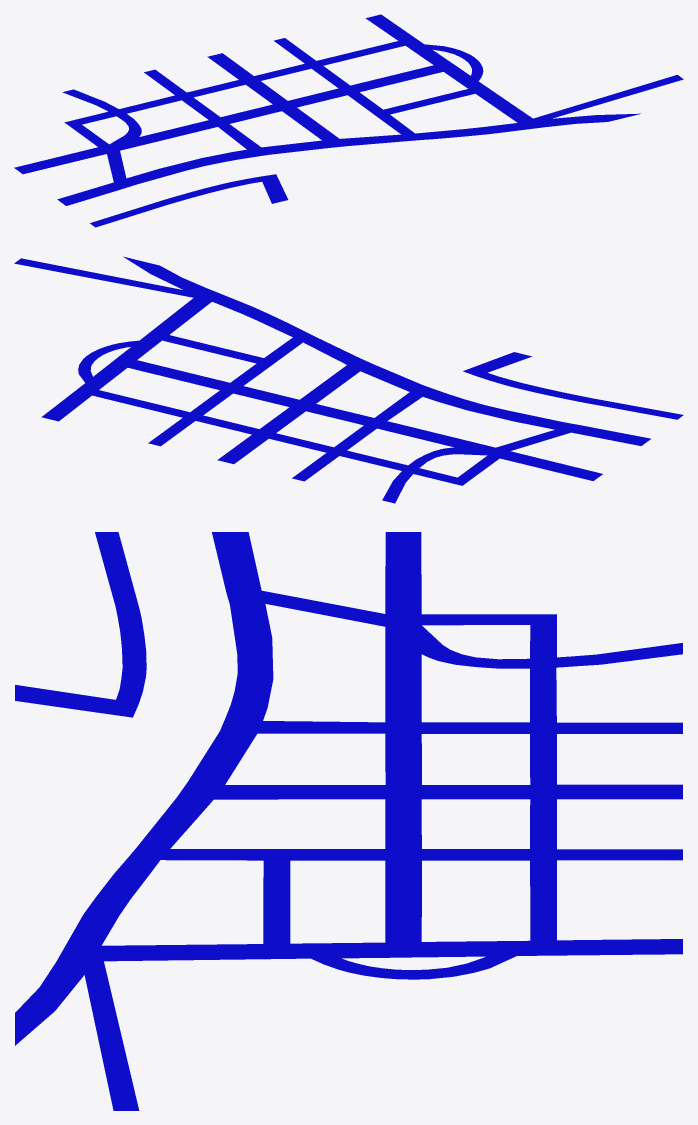
The model's file is cityRoads.FBX.
3 views of the same model, one above another, from view 1: azimuth 30°, elevation 25°; view 2: azimuth 150°, elevation 25°; view 3: azimuth 270°, elevation 25° (orthographic). The views are drawn at different scales.
Visible parts, largest first — view 1: cityStreets; view 2: cityStreets; view 3: cityStreets.
Boxes of the visible parts, <box> form: cityStreets: <box>14,14,683,227</box>; cityStreets: <box>14,256,683,503</box>; cityStreets: <box>15,532,682,1110</box>.
Size of the model in its own units: 583358 by 1.19 by 284356.
